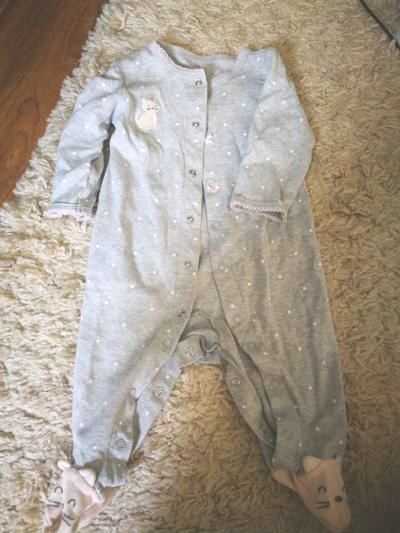Body: (21, 21, 370, 528)
